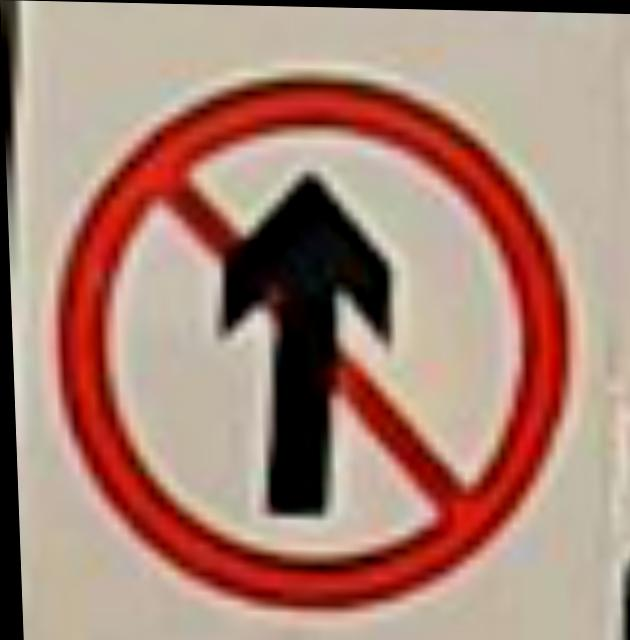not_go_straight: (40, 49, 583, 624)
